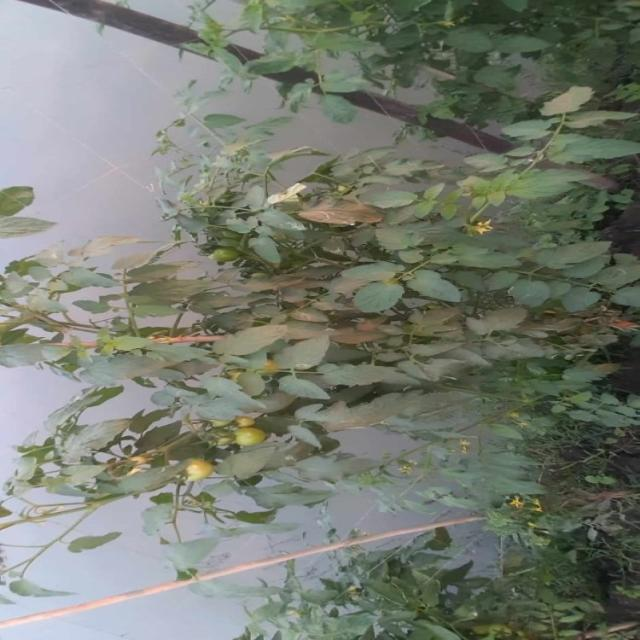tomato: (208, 237, 253, 271), (233, 425, 269, 458), (179, 459, 213, 491)
